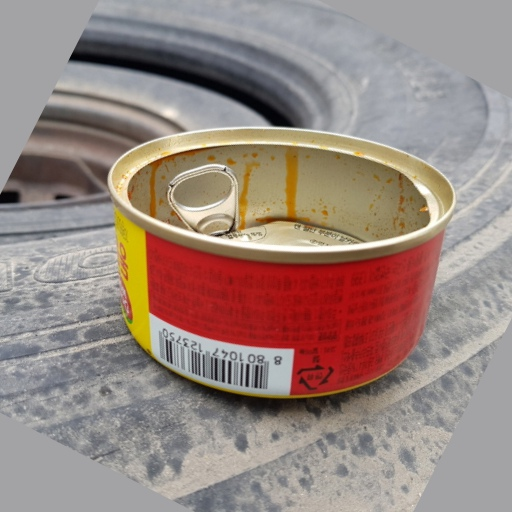Metal_1: (106, 124, 459, 400)
